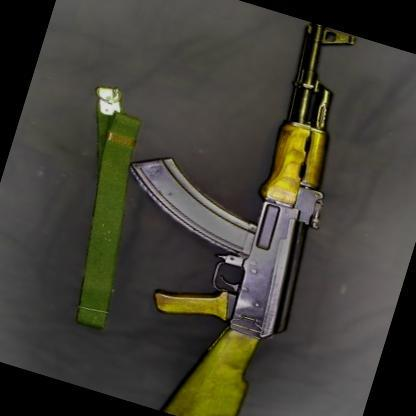rifle: (65, 0, 397, 416)
